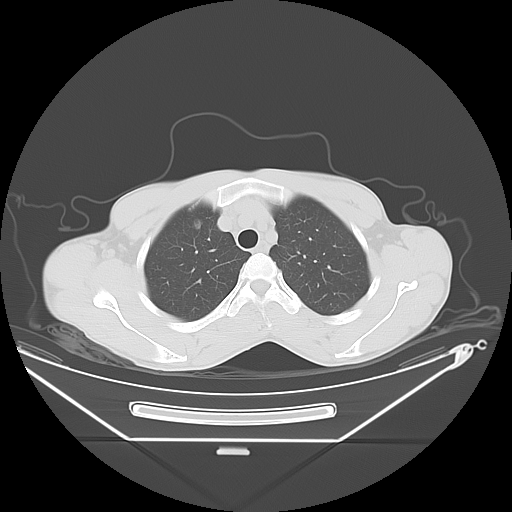nodule: (193, 219, 202, 229)
